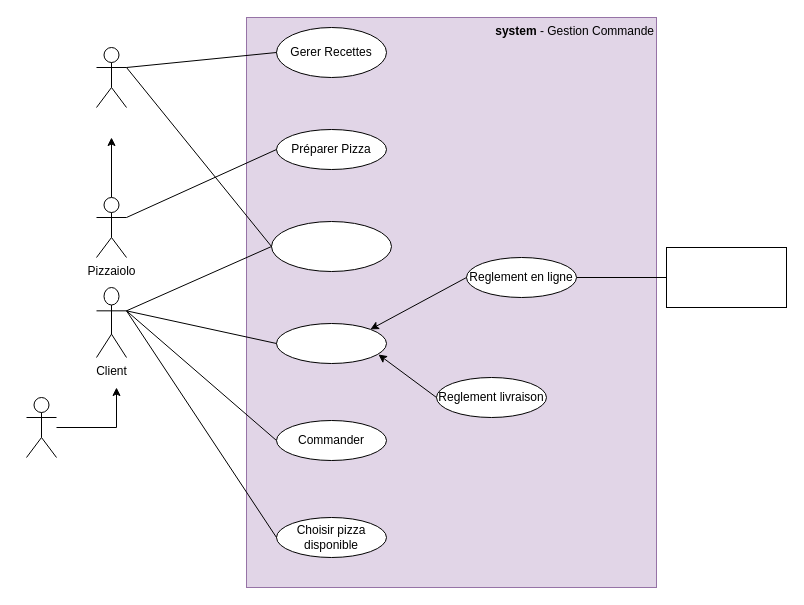
Image size: 804x605. Some labels were removed from this diagram. Each missing label, with the box of its shape:
<<system>> systeme de paiement: (666, 246, 786, 308)
Choisir mode de reglement: (276, 322, 386, 364)
Consulter - Modifier commandes: (270, 220, 392, 272)
Staff: (96, 46, 126, 108)
Vendeur Comptoir: (26, 396, 56, 458)
